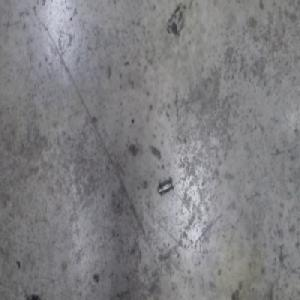Bolt: (157, 176, 174, 197)
